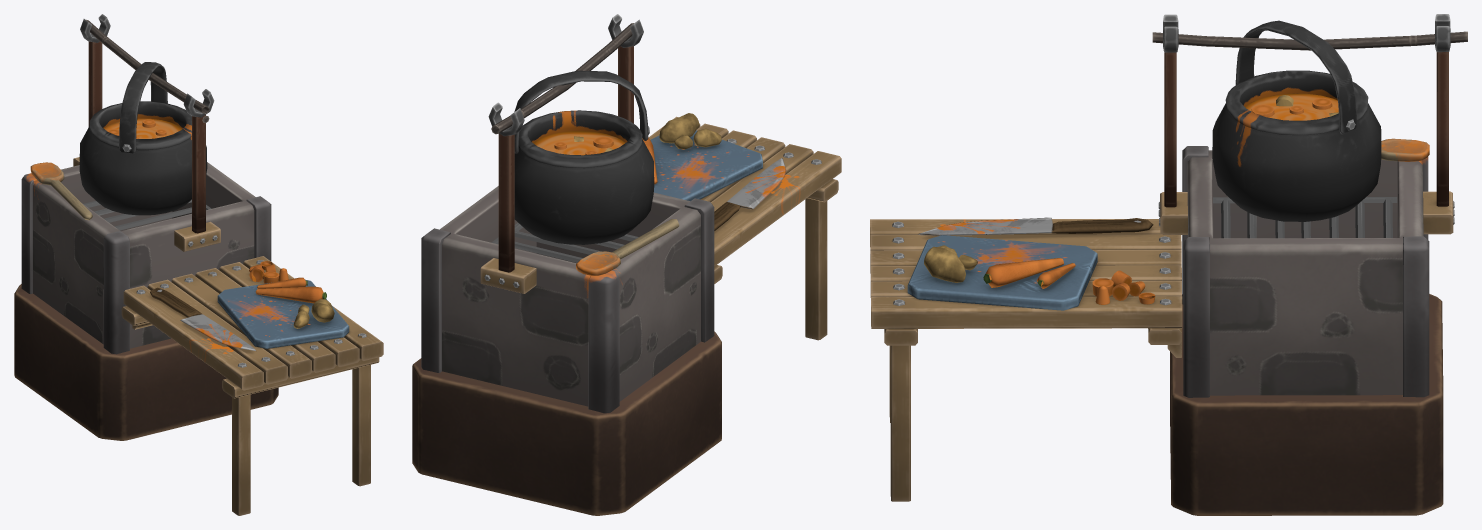
The model's file is cooking_stove.glb.
3 views of the same model, side by side, from view 1: azimuth 30°, elevation 25°; view 2: azimuth 150°, elevation 25°; view 3: azimuth 270°, elevation 25° (orthographic). The views are drawn at different scales.
Parts seen in each view (by area): view 1: Potato3_low_lambert1_0.227, Potato3_low_lambert1_0.105; view 2: Potato3_low_lambert1_0.227, Potato3_low_lambert1_0.105; view 3: Potato3_low_lambert1_0.227, Potato3_low_lambert1_0.105.
Boxes of the visible parts, x1=… form: Potato3_low_lambert1_0.227: x1=14, y1=14, x2=383, y2=515; Potato3_low_lambert1_0.105: x1=79, y1=62, x2=207, y2=215; Potato3_low_lambert1_0.227: x1=412, y1=14, x2=841, y2=515; Potato3_low_lambert1_0.105: x1=514, y1=70, x2=654, y2=244; Potato3_low_lambert1_0.227: x1=870, y1=14, x2=1467, y2=515; Potato3_low_lambert1_0.105: x1=1212, y1=20, x2=1381, y2=221.
Bounding box in the file's own units: 1.1 × 1.91 × 2.37.
Materials: 2 (2 with a texture image).
